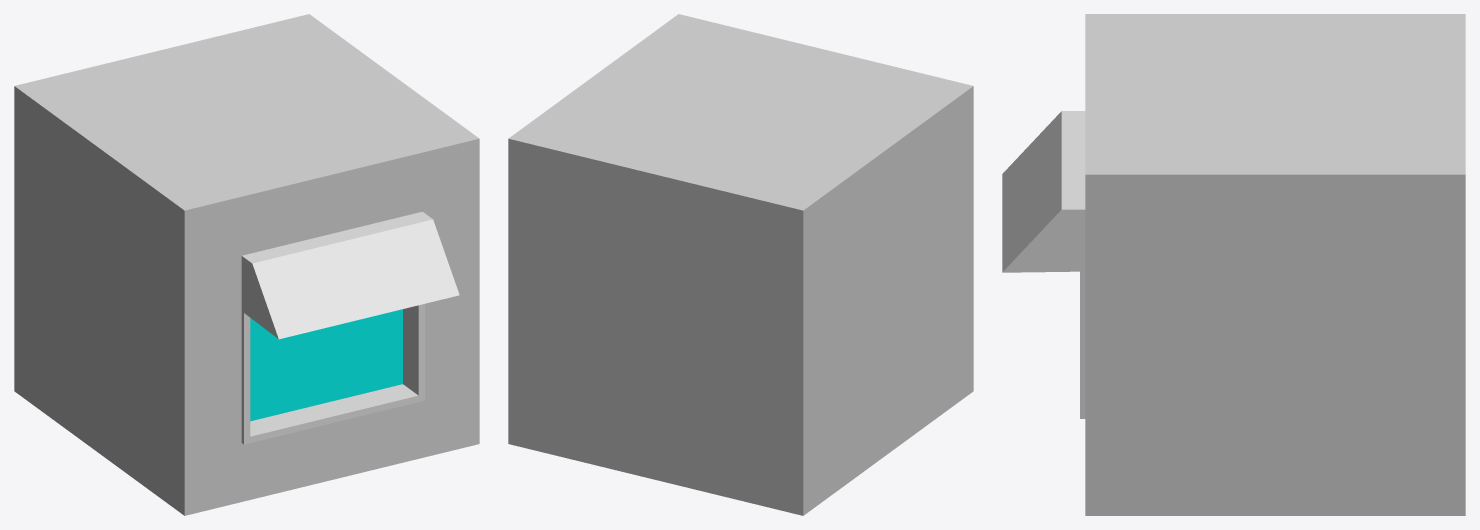
File: BuildingM5.fbx
3 views of the same model, side by side, from view 1: azimuth 30°, elevation 25°; view 2: azimuth 150°, elevation 25°; view 3: azimuth 270°, elevation 25° (orthographic). The views are drawn at different scales.
Parts seen in each view (by area): view 1: M5; view 2: M5; view 3: M5.
Boxes of the visible parts, box(x1,y1,x2,y2) form: M5: box(14, 14, 479, 515); M5: box(508, 14, 973, 515); M5: box(1002, 14, 1465, 515).
Bounding box in the file's own units: 650 × 643 × 792.
